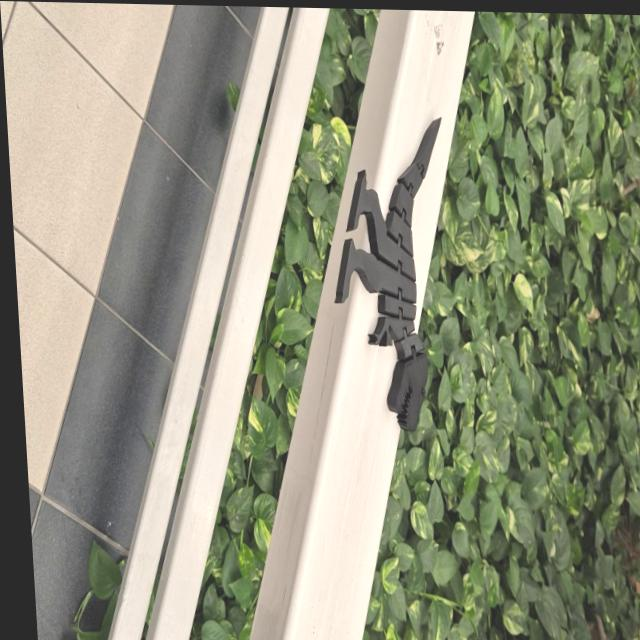dino: (323, 111, 462, 434)
